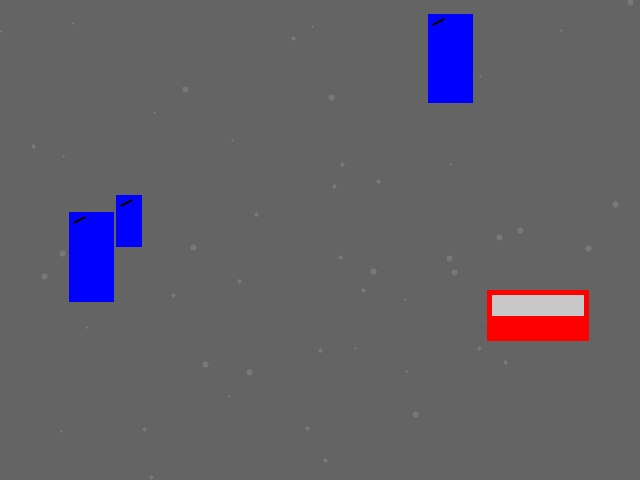car: (487, 290, 588, 340)
motorcycle: (69, 212, 113, 301), (428, 14, 472, 102), (116, 195, 141, 246)
